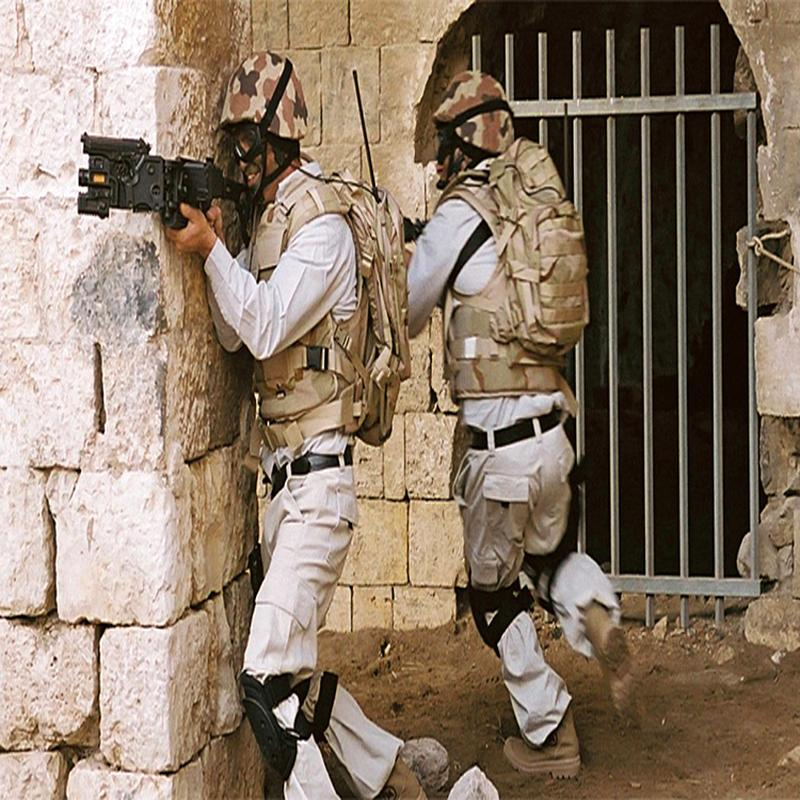GUN: (53, 119, 270, 268)
